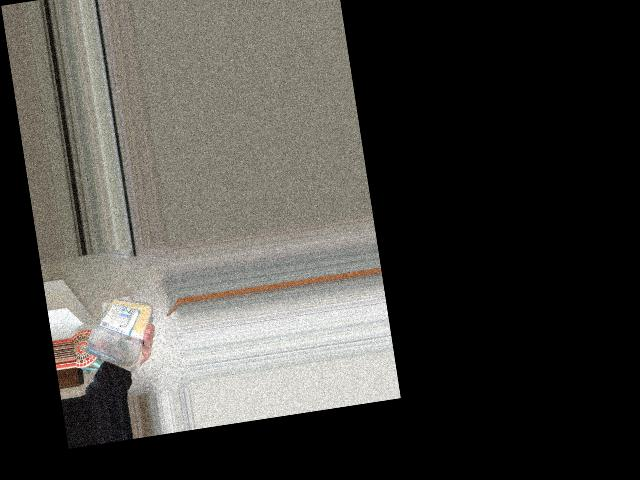cheese: (76, 289, 151, 368)
